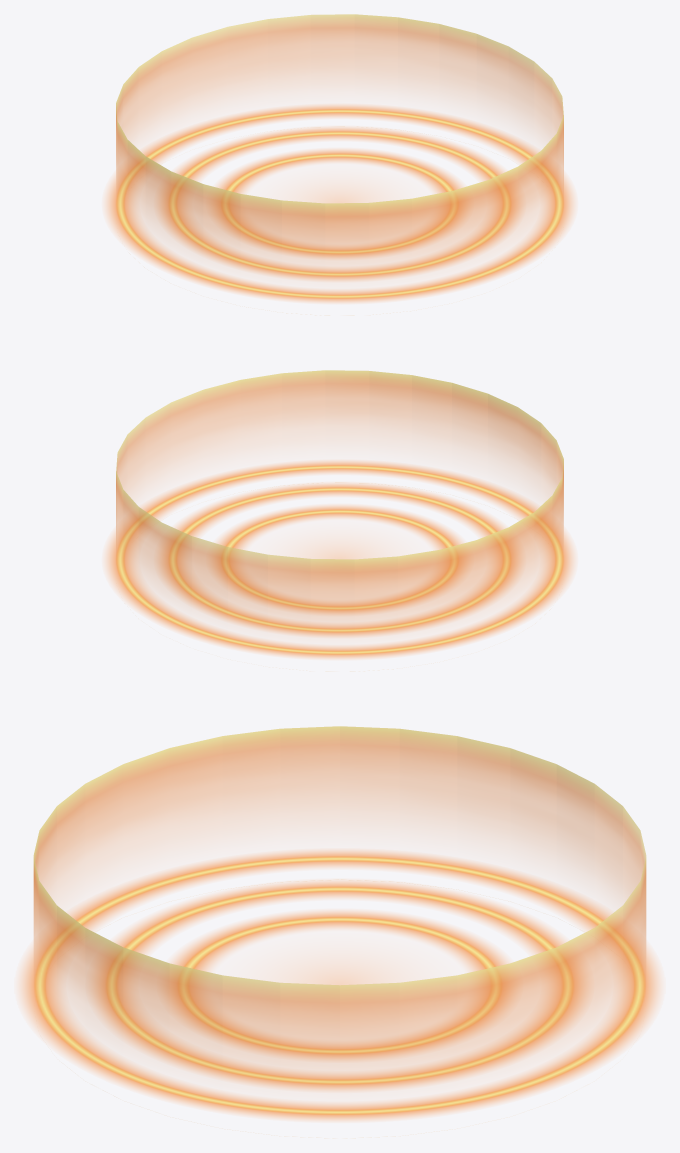
File: fx_pulse_t3.glb
3 renders of one model, top to bottom at view 1: azimuth 30°, elevation 25°; view 2: azimuth 150°, elevation 25°; view 3: azimuth 270°, elevation 25°, orthographic. The views are drawn at different scales.
Visible parts, largest first — view 1: fx_wall, fx_shock; view 2: fx_wall, fx_shock; view 3: fx_wall, fx_shock.
Boxes of the visible parts, x1=… form: fx_wall: x1=116, y1=14, x2=563, y2=270; fx_shock: x1=105, y1=105, x2=574, y2=302; fx_wall: x1=116, y1=370, x2=563, y2=629; fx_shock: x1=105, y1=461, x2=574, y2=658; fx_wall: x1=33, y1=726, x2=646, y2=1077; fx_shock: x1=19, y1=850, x2=660, y2=1120.
Bounding box in the file's own units: 1 × 0.26 × 1.
2 materials, 2 textured.
